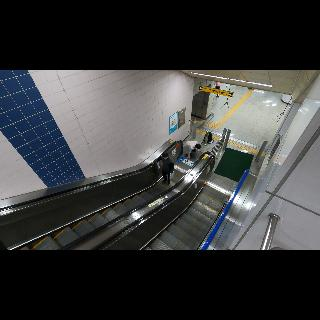anomaly: (182, 140, 202, 160)
normal: (153, 152, 175, 184)
